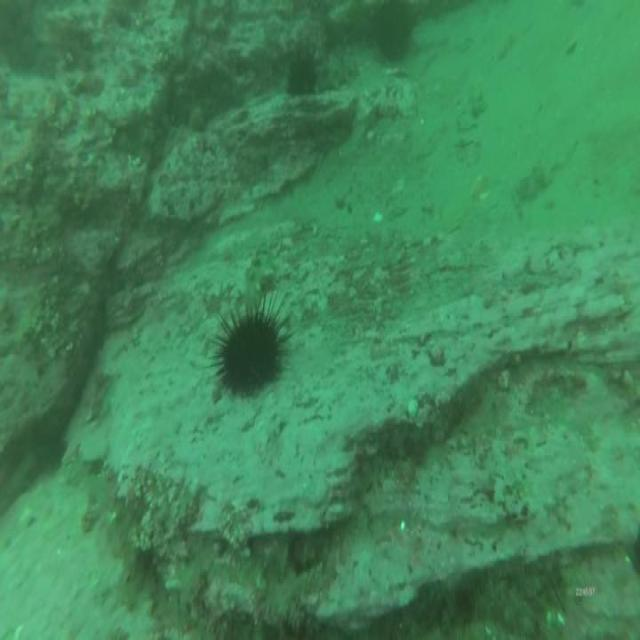echinus: (205, 305, 292, 403), (372, 0, 416, 70), (282, 51, 322, 101)
